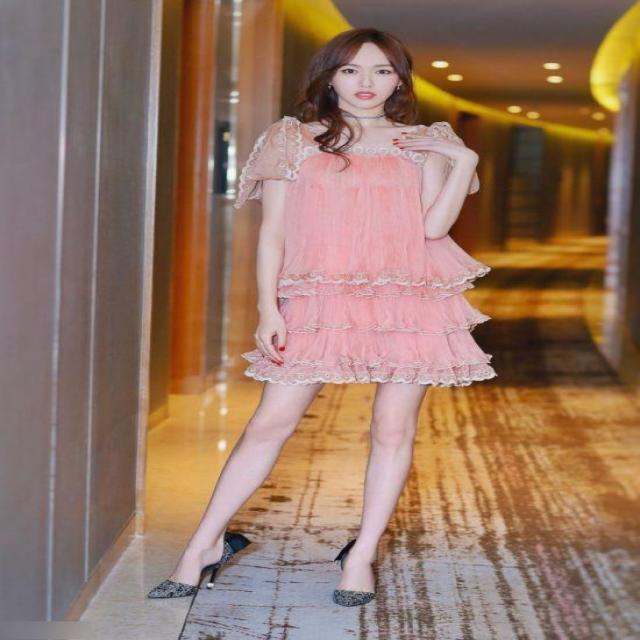Manusia: (210, 17, 490, 590)
